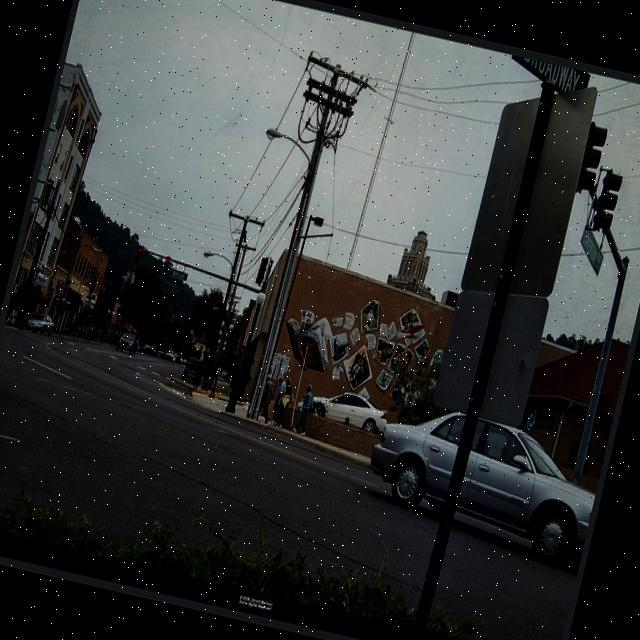fire_hydrant: (202, 374, 210, 390)
